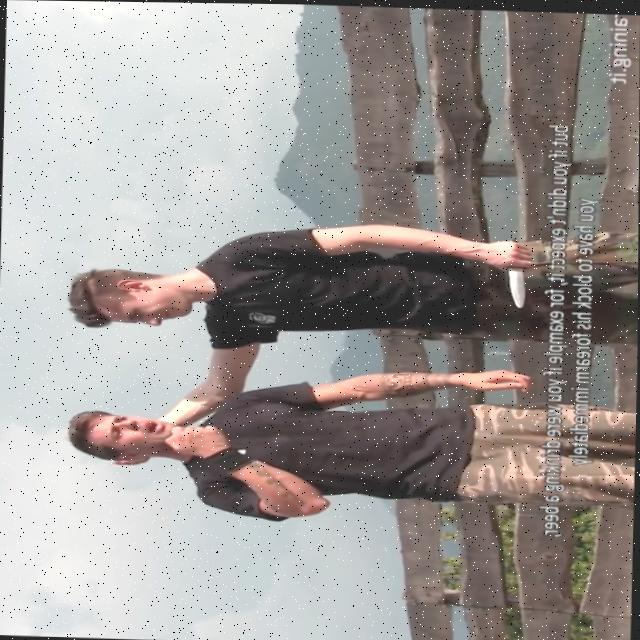knife: (501, 264, 526, 306)
